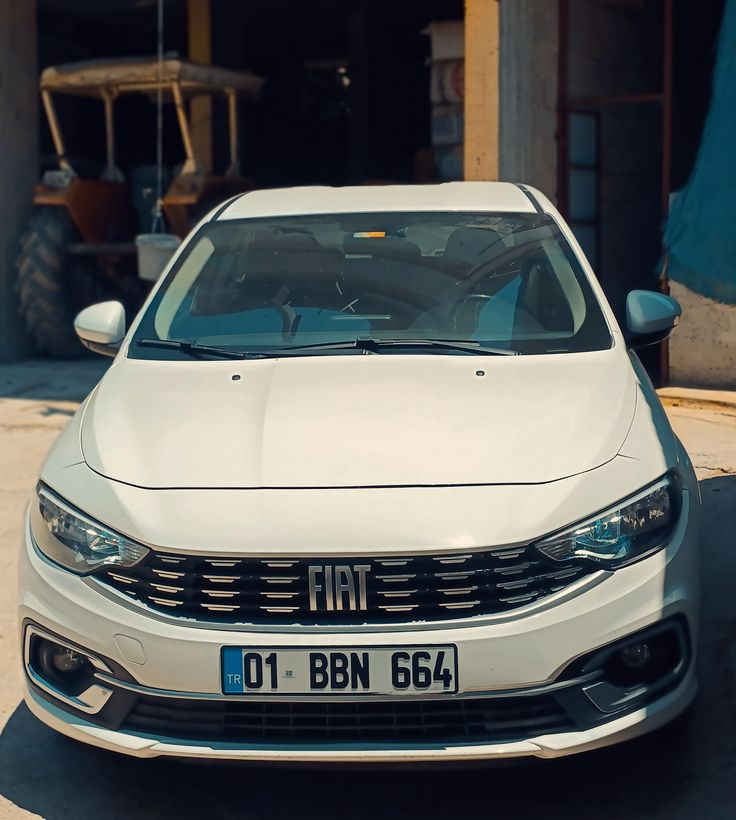plate: (222, 640, 477, 693)
